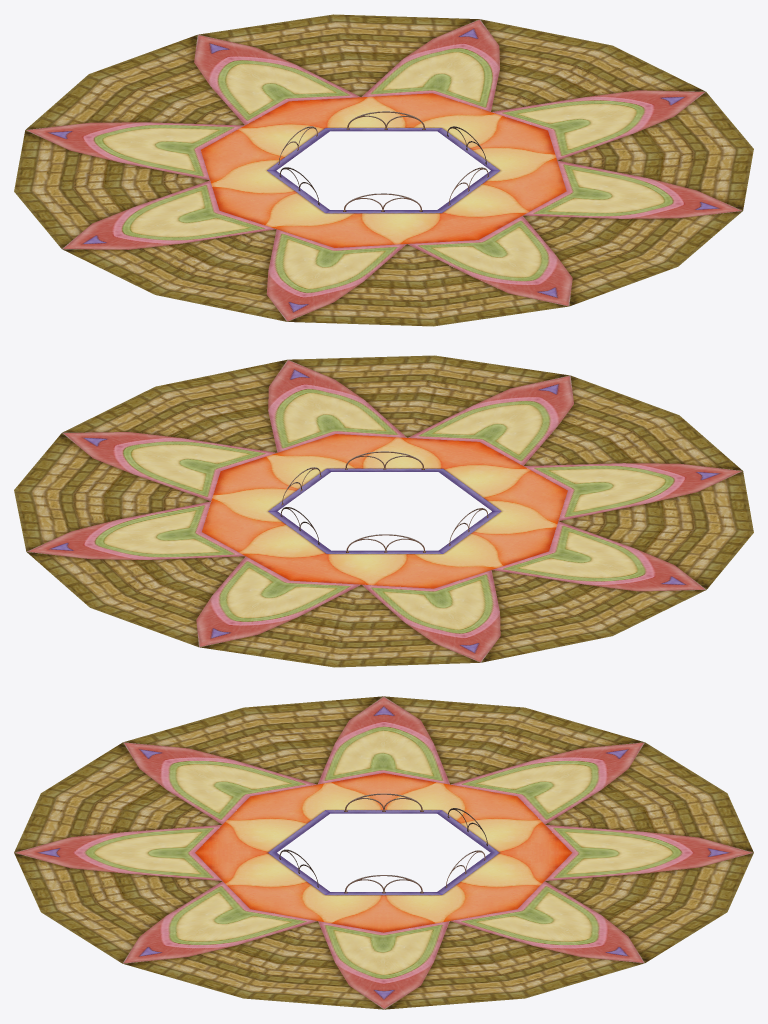
The model's file is obj_maflhala01.glb.
The picture shows the model from 3 angles, top to bottom: view 1: azimuth 30°, elevation 25°; view 2: azimuth 150°, elevation 25°; view 3: azimuth 270°, elevation 25°; orthographic projection.
Parts seen in each view (by area): view 1: part_0; view 2: part_0; view 3: part_0.
Boxes of the visible parts, left/top/right/bottom form: part_0: left=14, top=14, right=753, bottom=326; part_0: left=14, top=355, right=753, bottom=667; part_0: left=14, top=696, right=753, bottom=1009.
Size of the model in its own units: 36.6 by 1.05 by 36.53.
2 materials, 2 textured.
